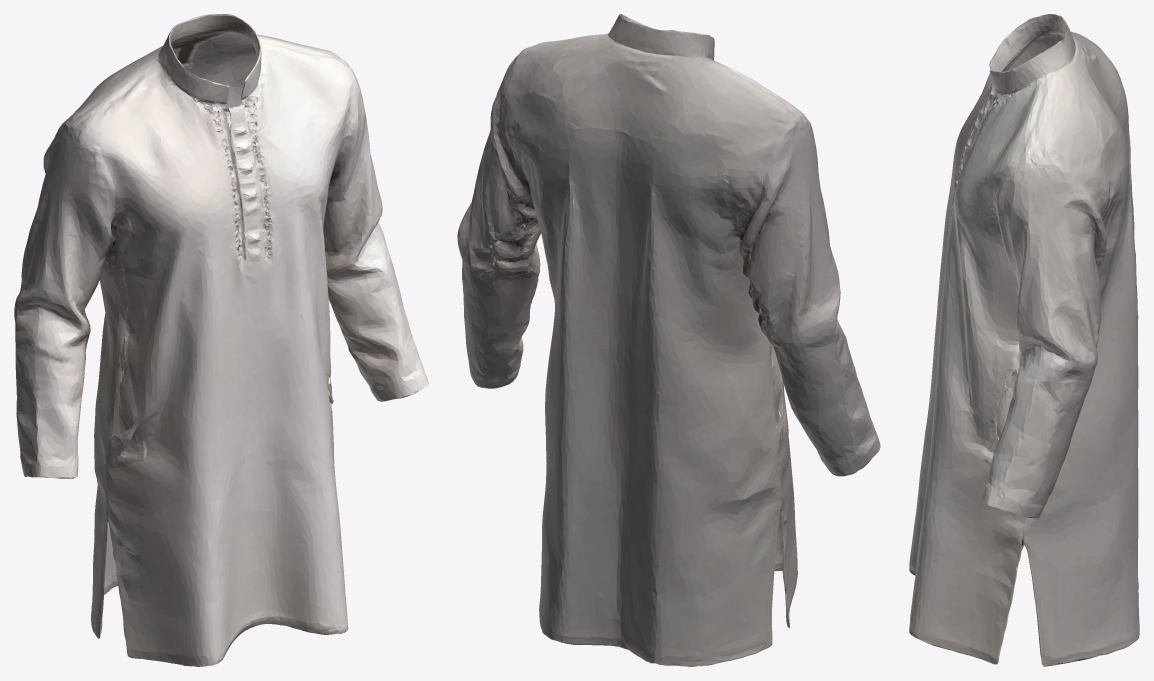
Rendered from kurta.glb.
The picture shows the model from 3 angles, left to right: view 1: azimuth 30°, elevation 25°; view 2: azimuth 150°, elevation 25°; view 3: azimuth 270°, elevation 25°; orthographic projection. The views are drawn at different scales.
Parts seen in each view (by area): view 1: world; view 2: world; view 3: world.
Part boxes in pixels (x1,y1,x2,y2): world: (14, 14, 428, 666); world: (457, 14, 880, 666); world: (909, 14, 1139, 666).
Size of the model in its own units: 1.39 by 1.99 by 0.7085.
Materials: 1 (1 with a texture image).
